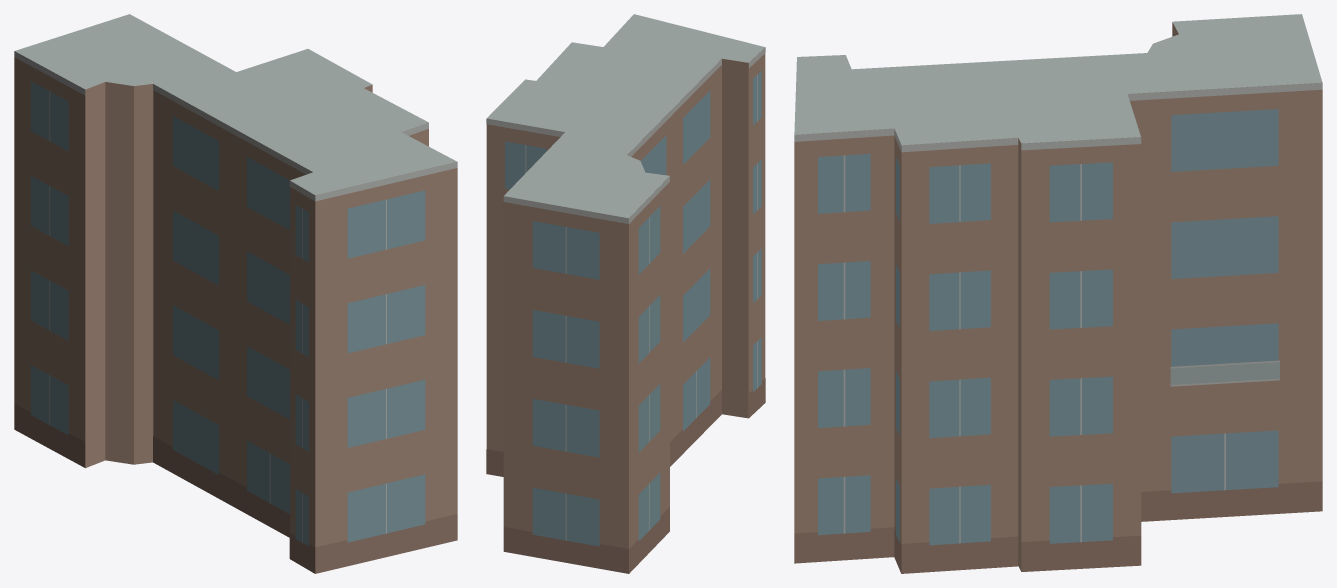
The model's file is survey-upis-32462882.glb.
The picture shows the model from 3 angles, left to right: view 1: azimuth 30°, elevation 25°; view 2: azimuth 150°, elevation 25°; view 3: azimuth 270°, elevation 25°; orthographic projection. The views are drawn at different scales.
Parts seen in each view (by area): view 1: survey-upis-32462882.tmp; view 2: survey-upis-32462882.tmp; view 3: survey-upis-32462882.tmp.
Boxes of the visible parts, x1,y1,x2,y2 form: survey-upis-32462882.tmp: (14,14,457,573); survey-upis-32462882.tmp: (486,14,765,573); survey-upis-32462882.tmp: (794,14,1322,573).
Size of the model in its own units: 9.87 by 15 by 16.77.
